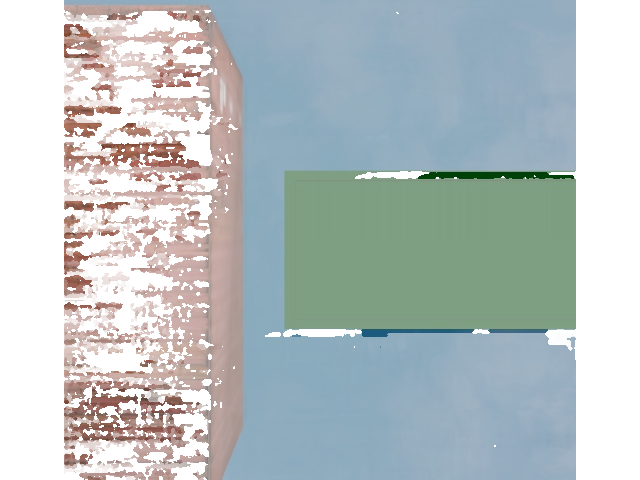container2: (277, 171, 621, 334)
container4: (0, 0, 251, 478)
